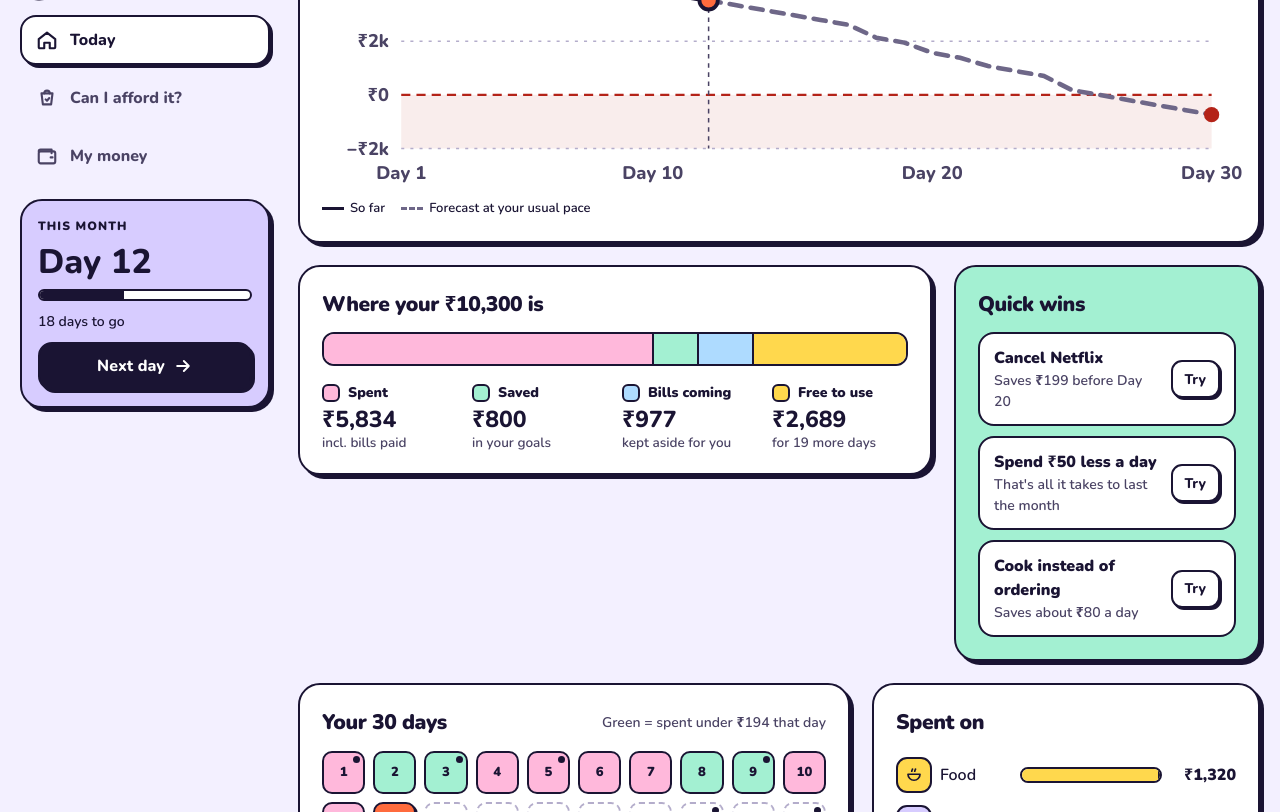
Test: Can I afford it? › opens a quick win from the Today page as a simulation
(page scrolled)
Click the button with aria-label "See effect: Cancel Netflix".
click(1195, 379)  # box [1171,360,1220,398]
(page scrolled)
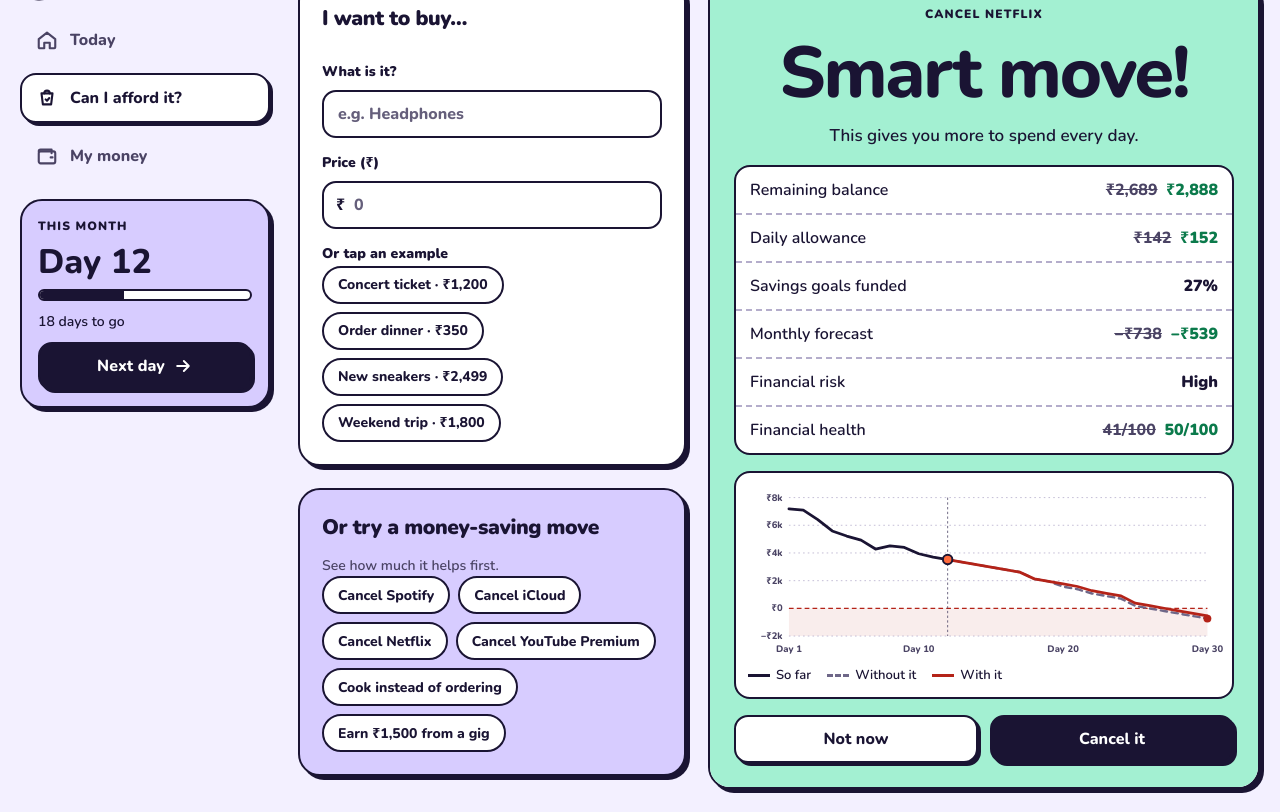
Expected: the text "Smart move!" is shown, [780,24,1188,122]
